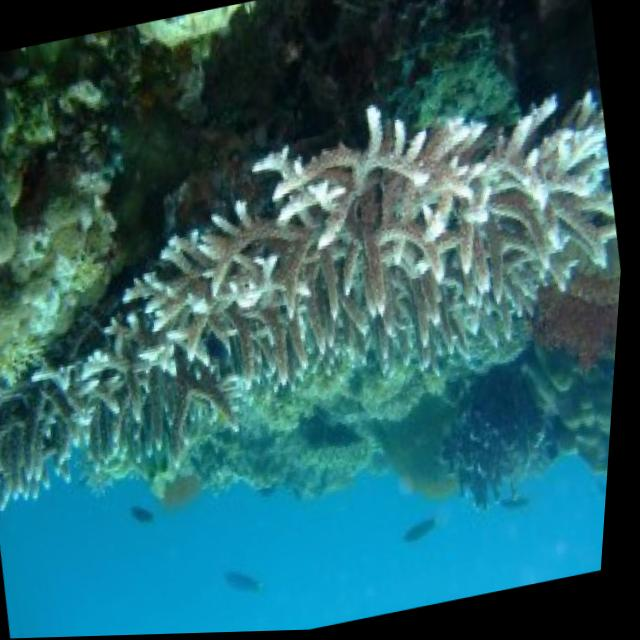Bleached Coral: (0, 45, 637, 515)
